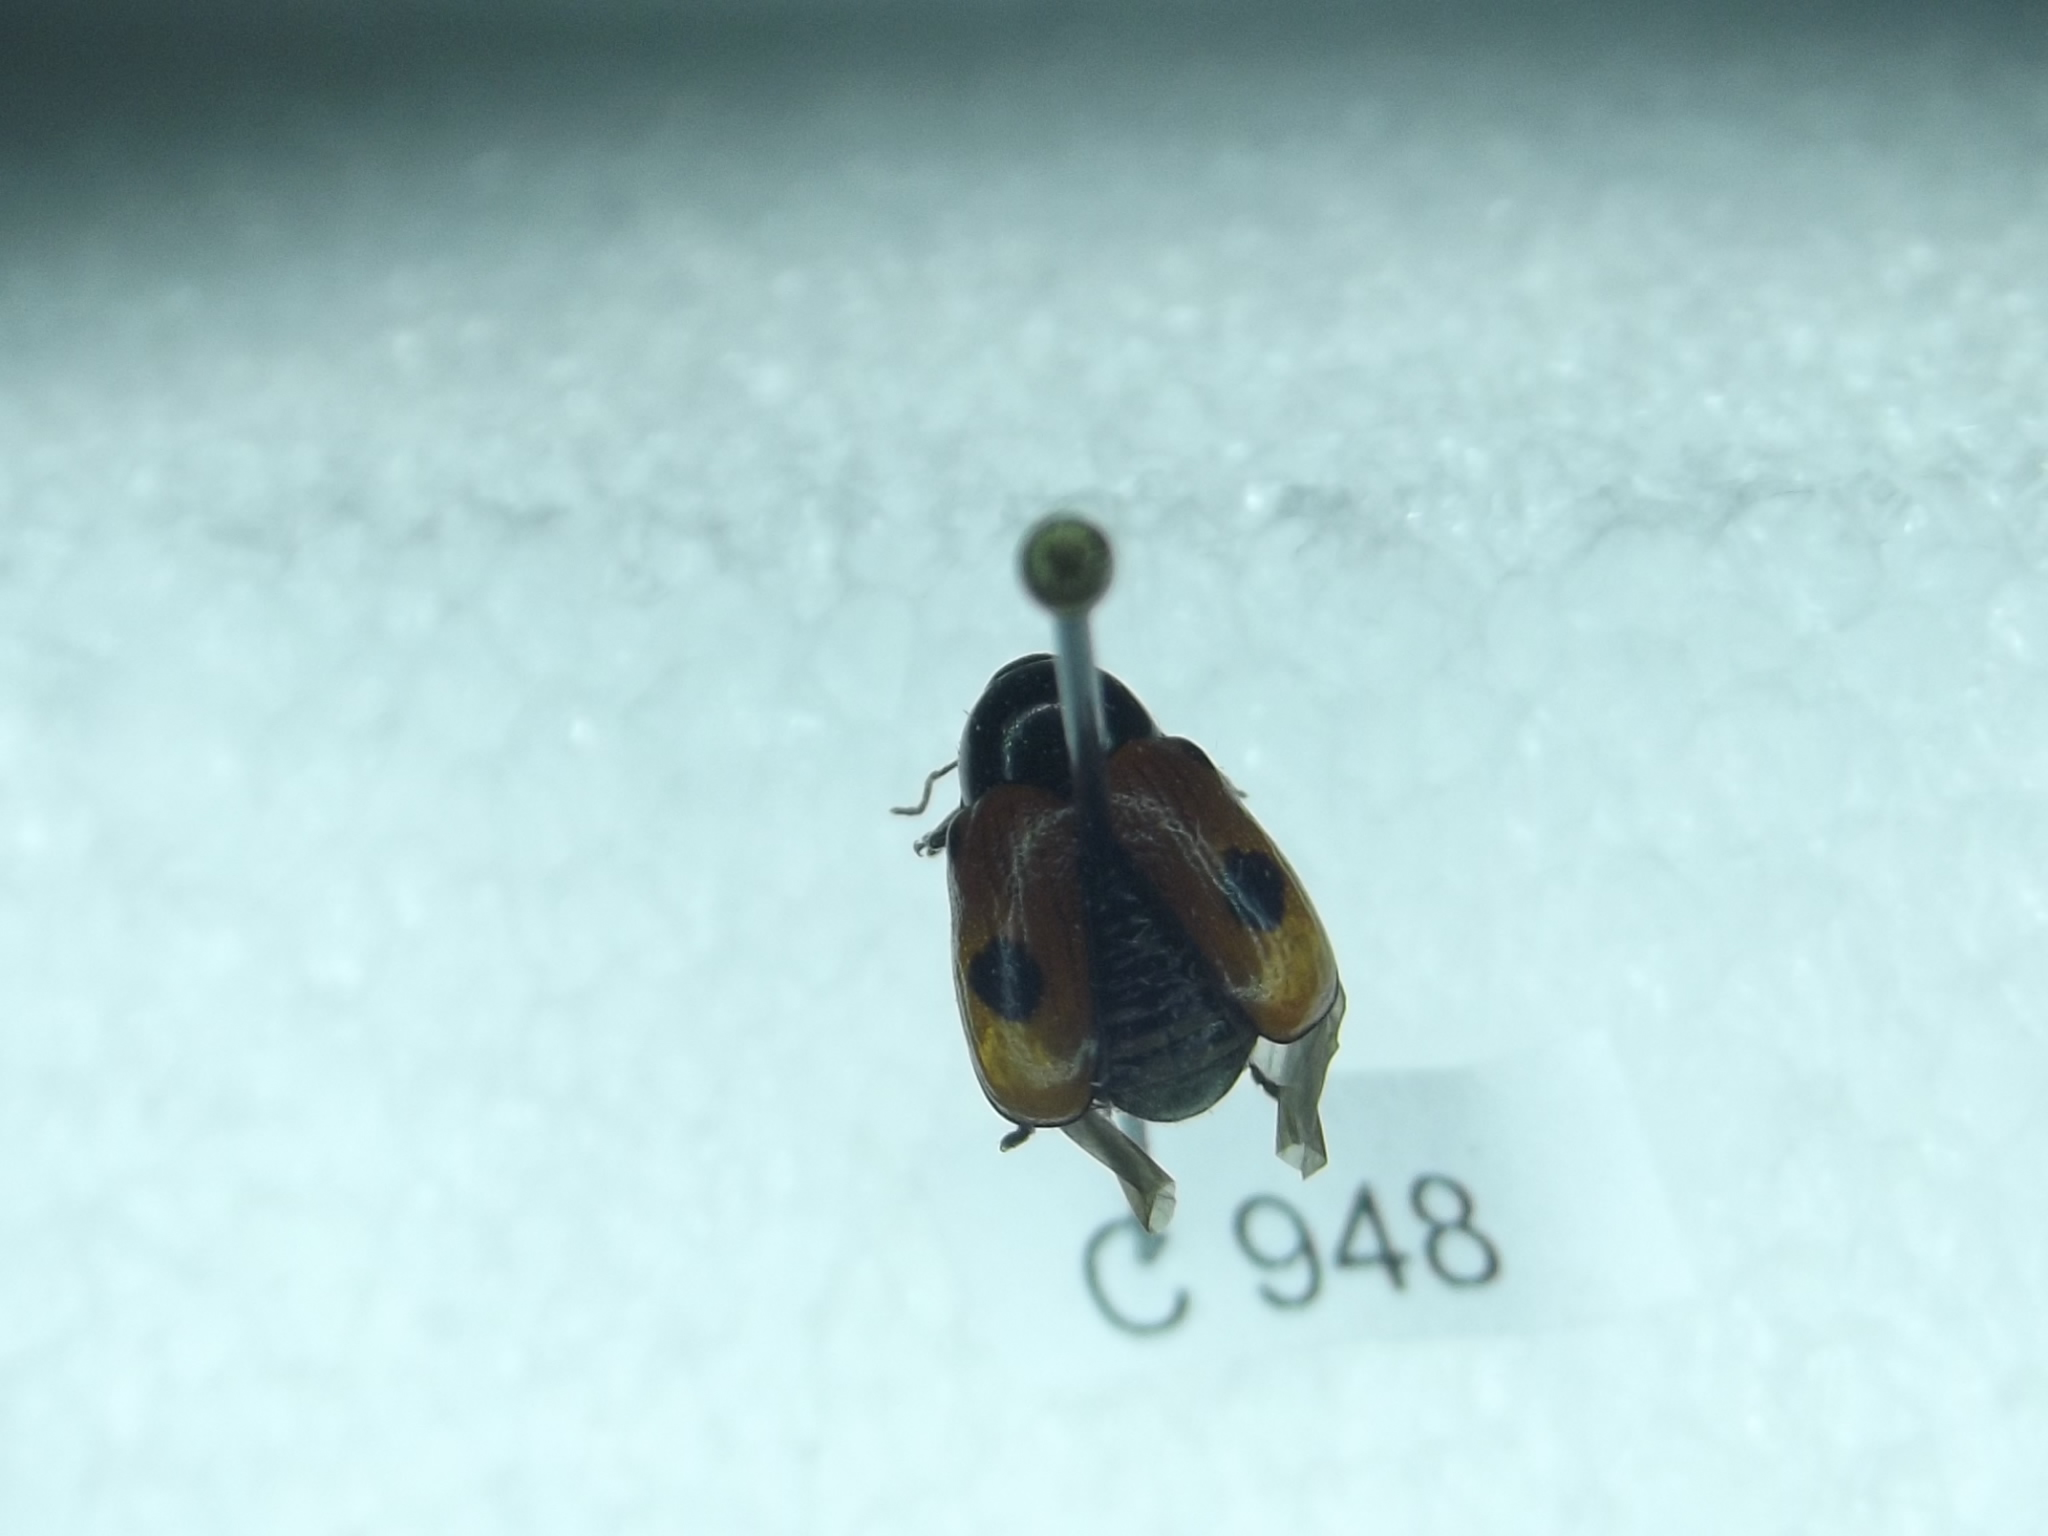Cryptocephalus_bipunctatus: (892, 641, 1364, 1212)
